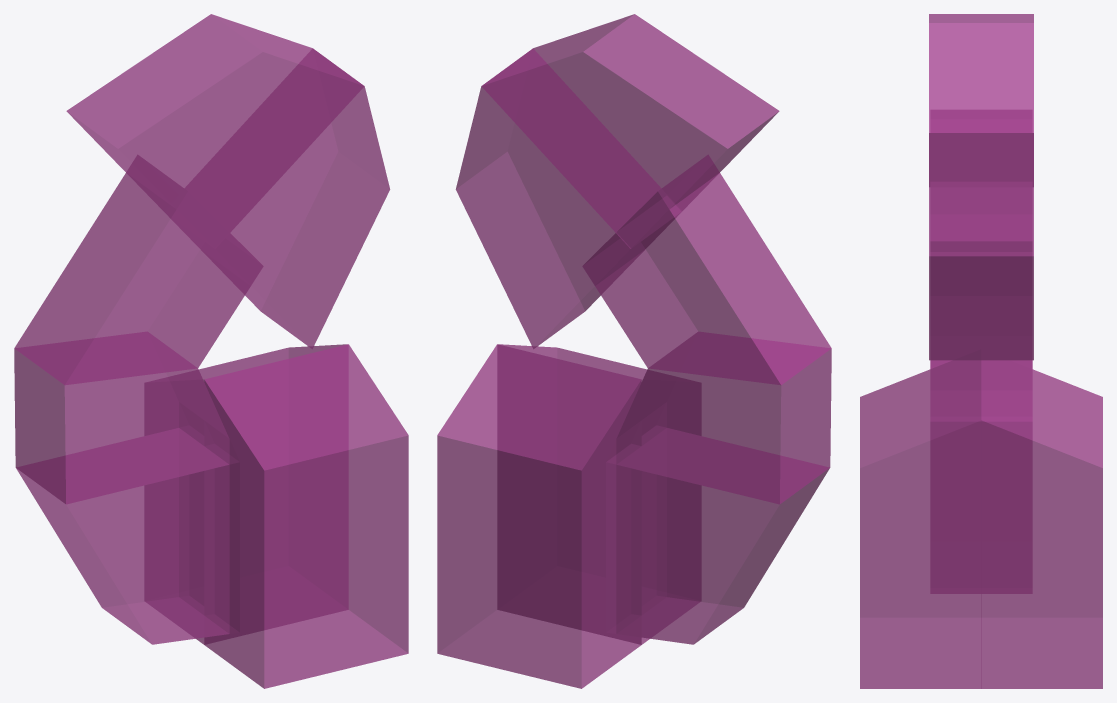
Rendered from SM_Bld_Roof_Trim_Cap_06_Collision_01.fbx.
The picture shows the model from 3 angles, left to right: view 1: azimuth 30°, elevation 25°; view 2: azimuth 150°, elevation 25°; view 3: azimuth 270°, elevation 25°; orthographic projection.
Visible parts, largest first — view 1: SM_Bld_Roof_Trim_Cap_06_Collision_01; view 2: SM_Bld_Roof_Trim_Cap_06_Collision_01; view 3: SM_Bld_Roof_Trim_Cap_06_Collision_01.
Part boxes in pixels (x1,y1,x2,y2): SM_Bld_Roof_Trim_Cap_06_Collision_01: [14, 14, 408, 688]; SM_Bld_Roof_Trim_Cap_06_Collision_01: [437, 14, 831, 688]; SM_Bld_Roof_Trim_Cap_06_Collision_01: [860, 14, 1102, 688].
Bounding box in the file's own units: 68.33 × 121 × 43.74.
